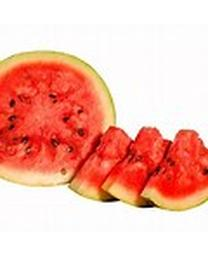watermelon: (0, 50, 120, 191), (69, 123, 207, 210)
